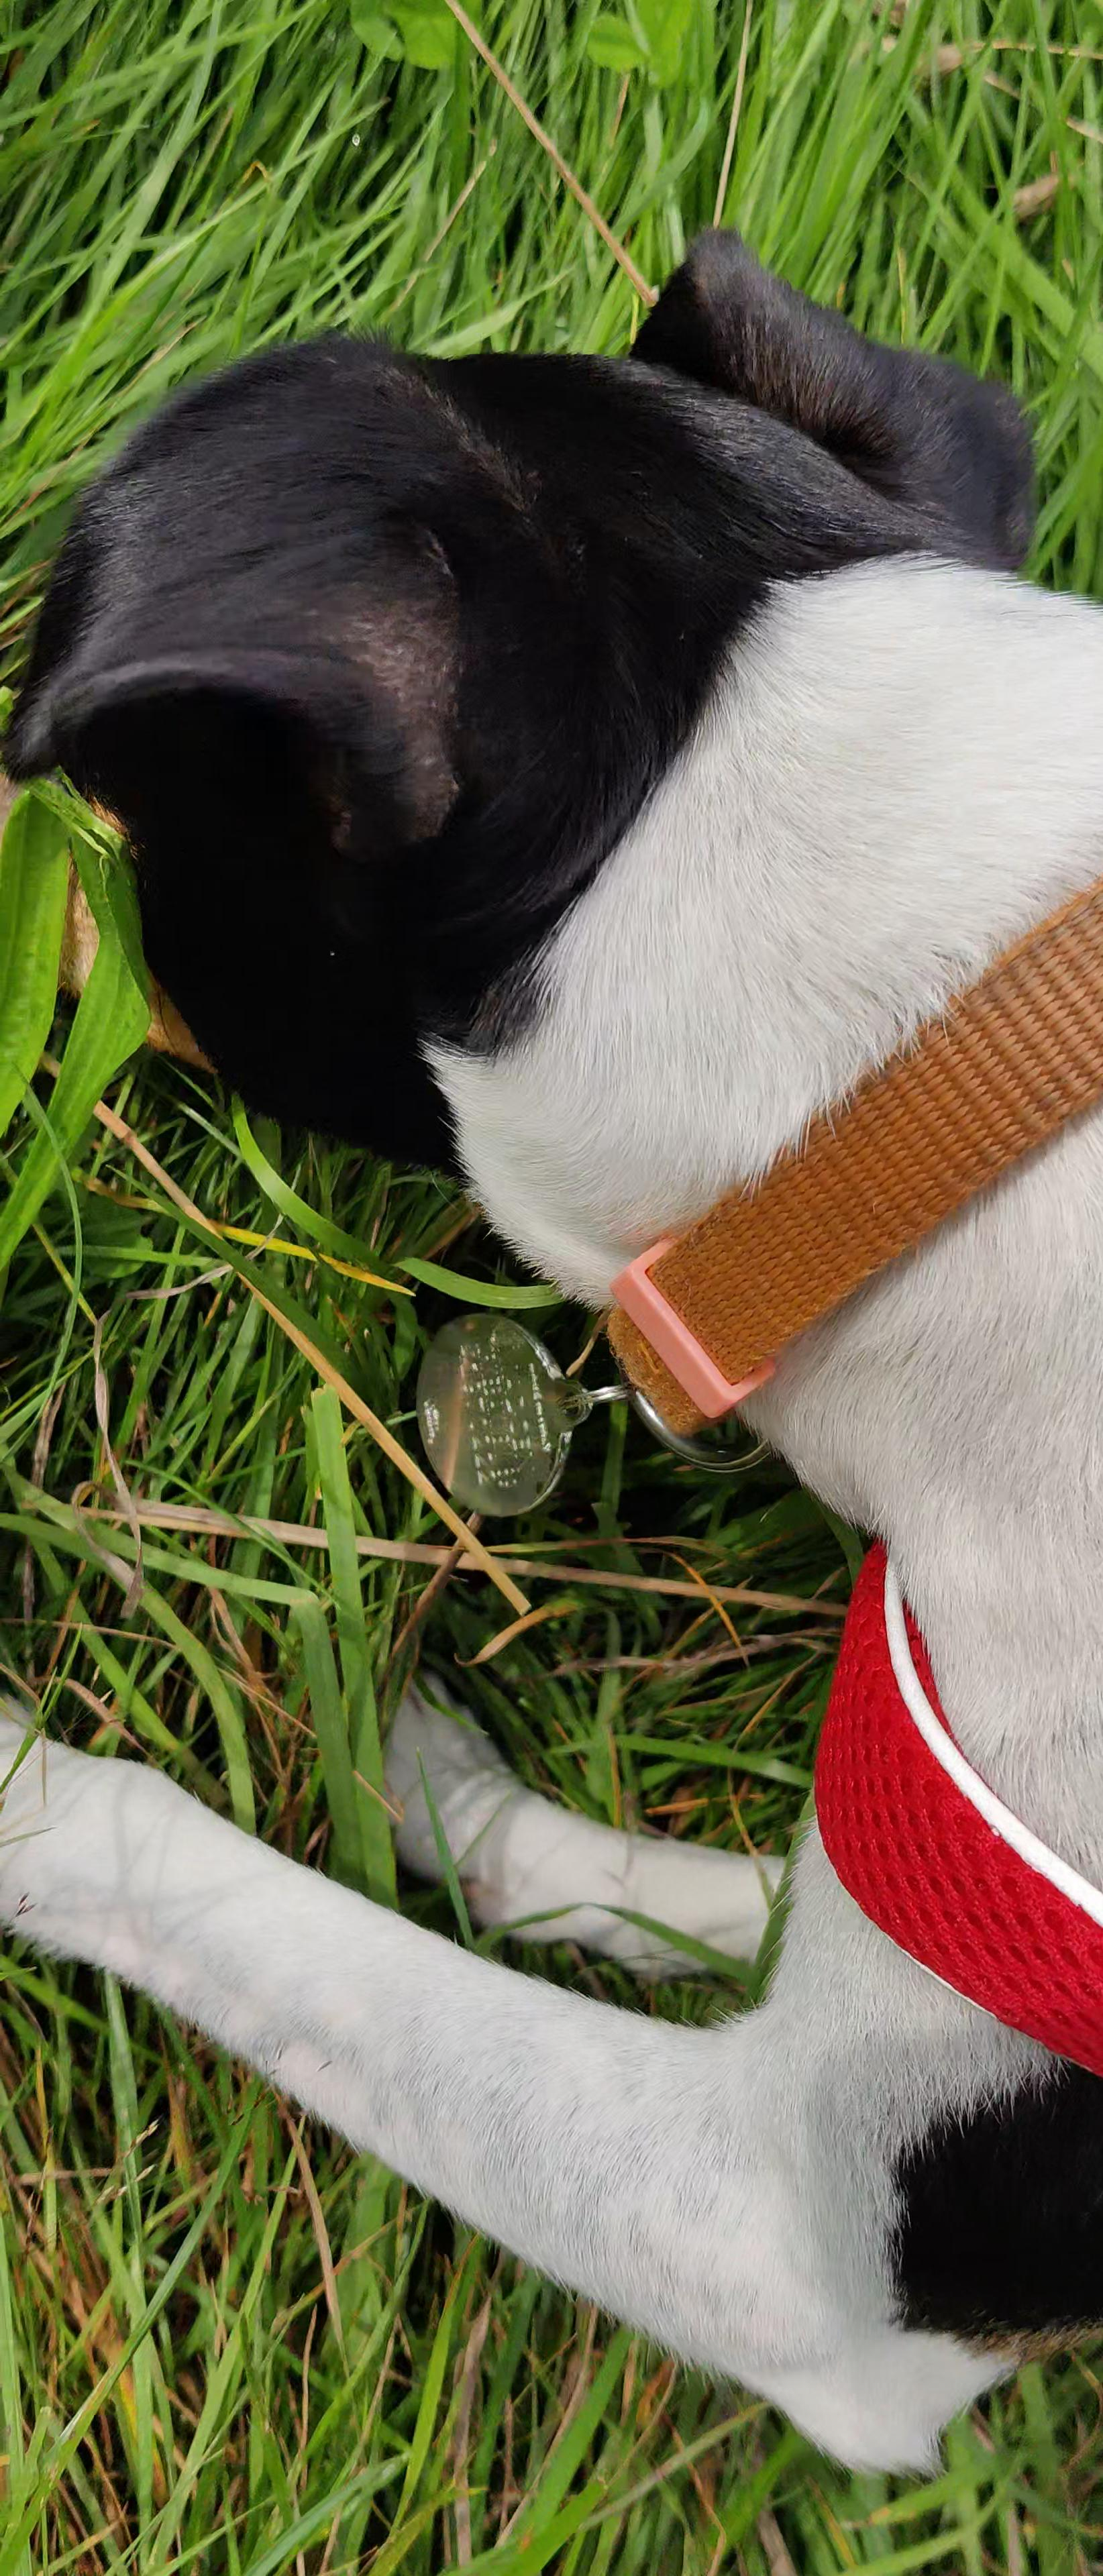Dog: (0, 204, 1103, 2500)
